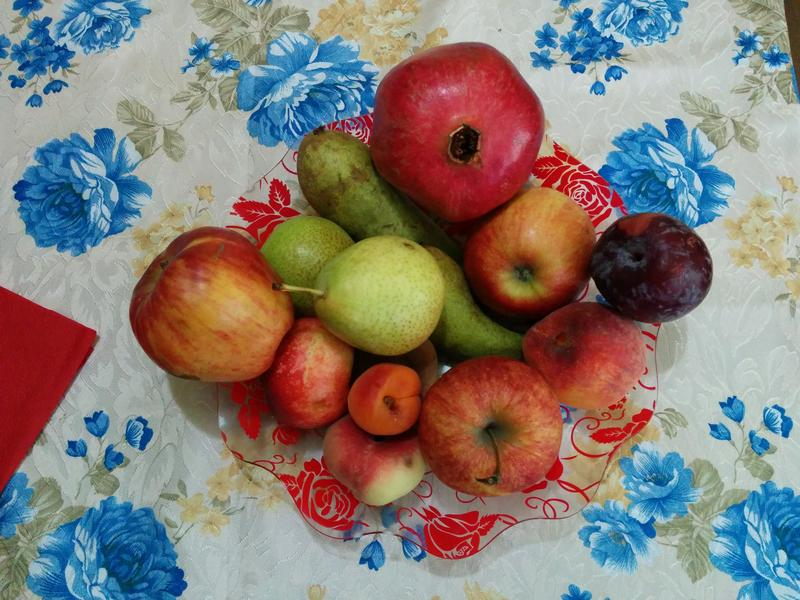apple: (124, 221, 294, 385), (416, 354, 563, 500), (461, 177, 608, 323)
